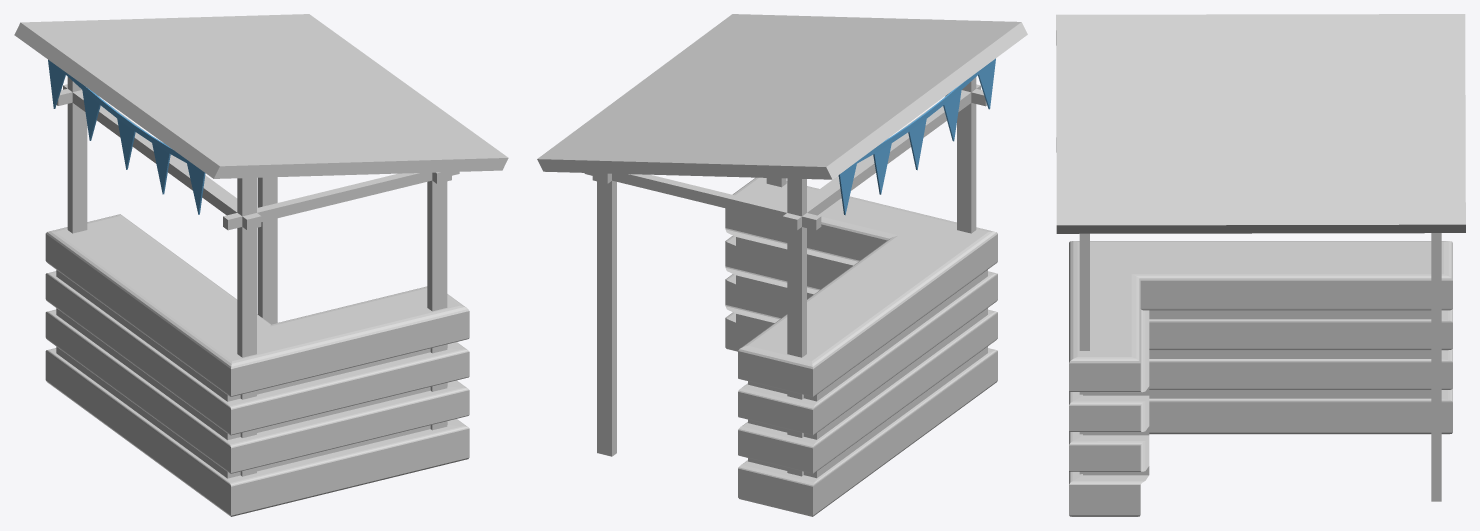
Rendered from food booth6.fbx.
The picture shows the model from 3 angles, left to right: view 1: azimuth 30°, elevation 25°; view 2: azimuth 150°, elevation 25°; view 3: azimuth 270°, elevation 25°; orthographic projection. The views are drawn at different scales.
Parts seen in each view (by area): view 1: Cube.002, Plane.001, Cube.001, Plane.002; view 2: Cube.002, Plane.001, Cube.001, Plane.002; view 3: Plane.001, Cube.002, Cube.001.
Part boxes in pixels (<box>): Cube.002: <box>45,214,469,516</box>; Plane.001: <box>14,14,508,178</box>; Cube.001: <box>56,77,459,476</box>; Plane.002: <box>48,59,205,214</box>; Cube.002: <box>725,177,997,516</box>; Plane.001: <box>537,14,1027,179</box>; Cube.001: <box>584,77,986,476</box>; Plane.002: <box>838,58,995,215</box>; Plane.001: <box>1056,14,1465,233</box>; Cube.002: <box>1069,241,1452,516</box>; Cube.001: <box>1079,233,1441,501</box>.
Bounding box in the file's own units: 1046 × 1216 × 1205.
